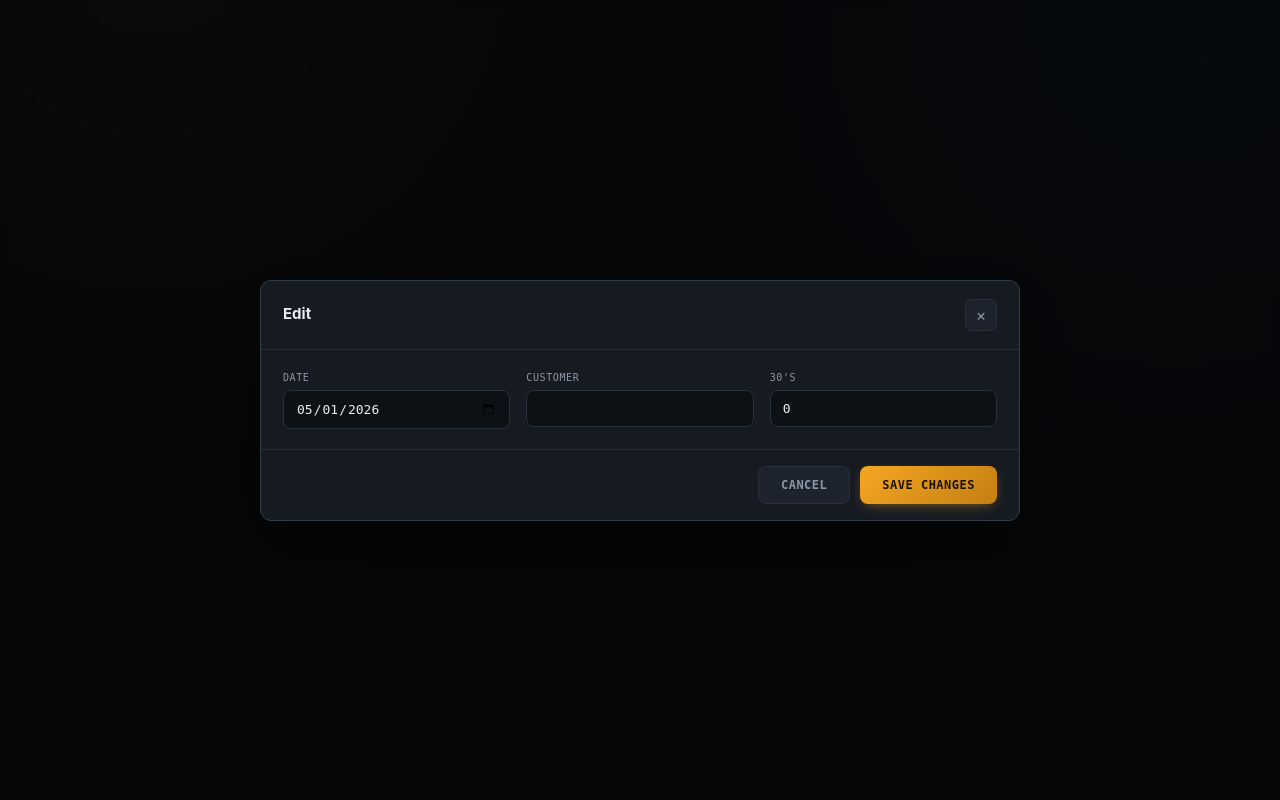
Test: RowEditModal › blocks save and shows an error when a required field is empty
Click the button "Save Changes": {"x": 929, "y": 484} [860, 466, 997, 504]
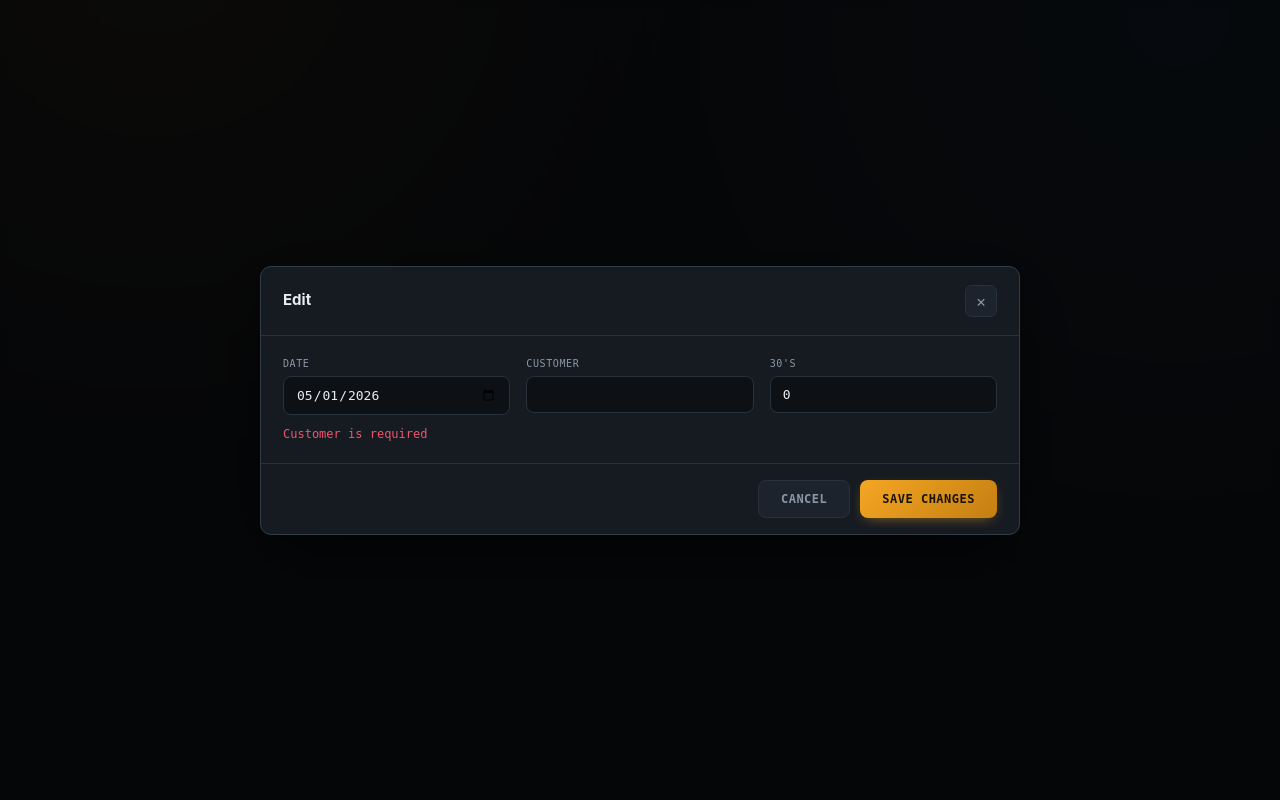
Expected: the text "Customer is required" is shown, [283, 426, 428, 440]
